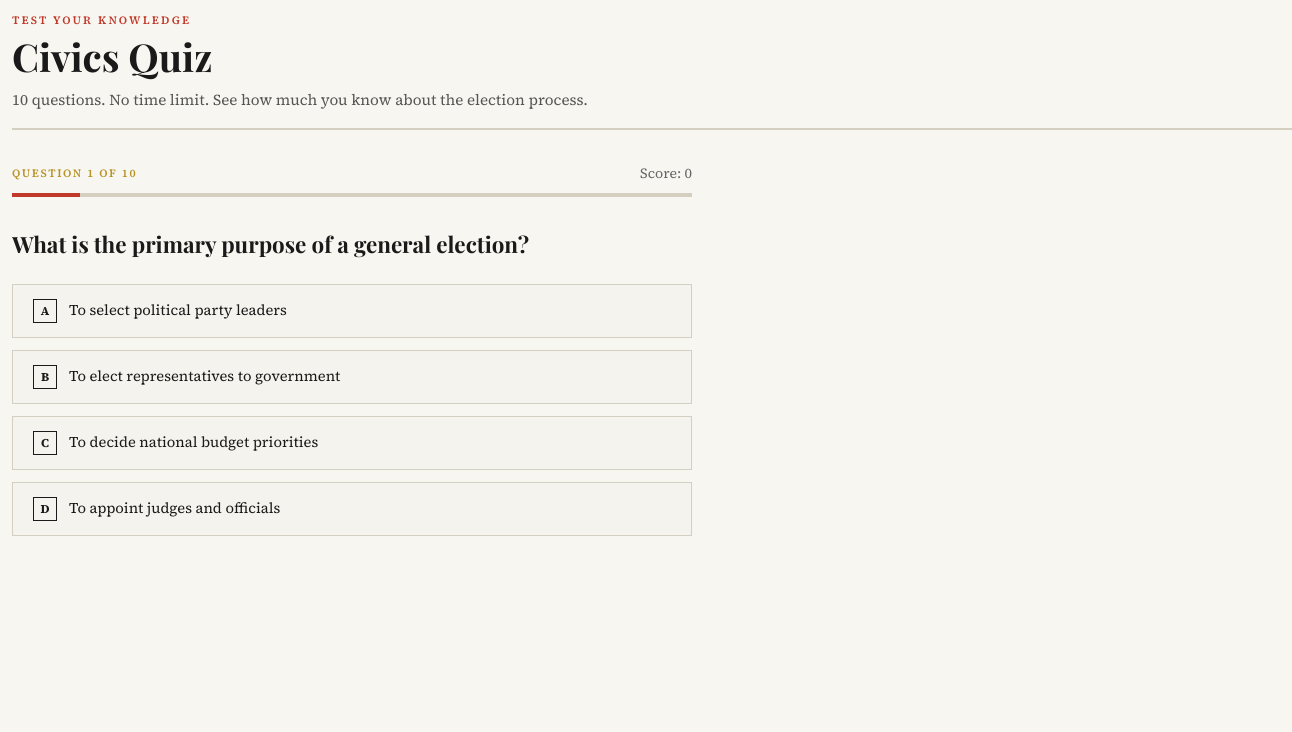
Test case: Quiz Component › restarts the quiz when the restart button is clicked
This screenshot has width=1292, height=732.
Click the button "A To select political party leaders" at (178, 310), box left=12, top=284, right=692, bottom=338
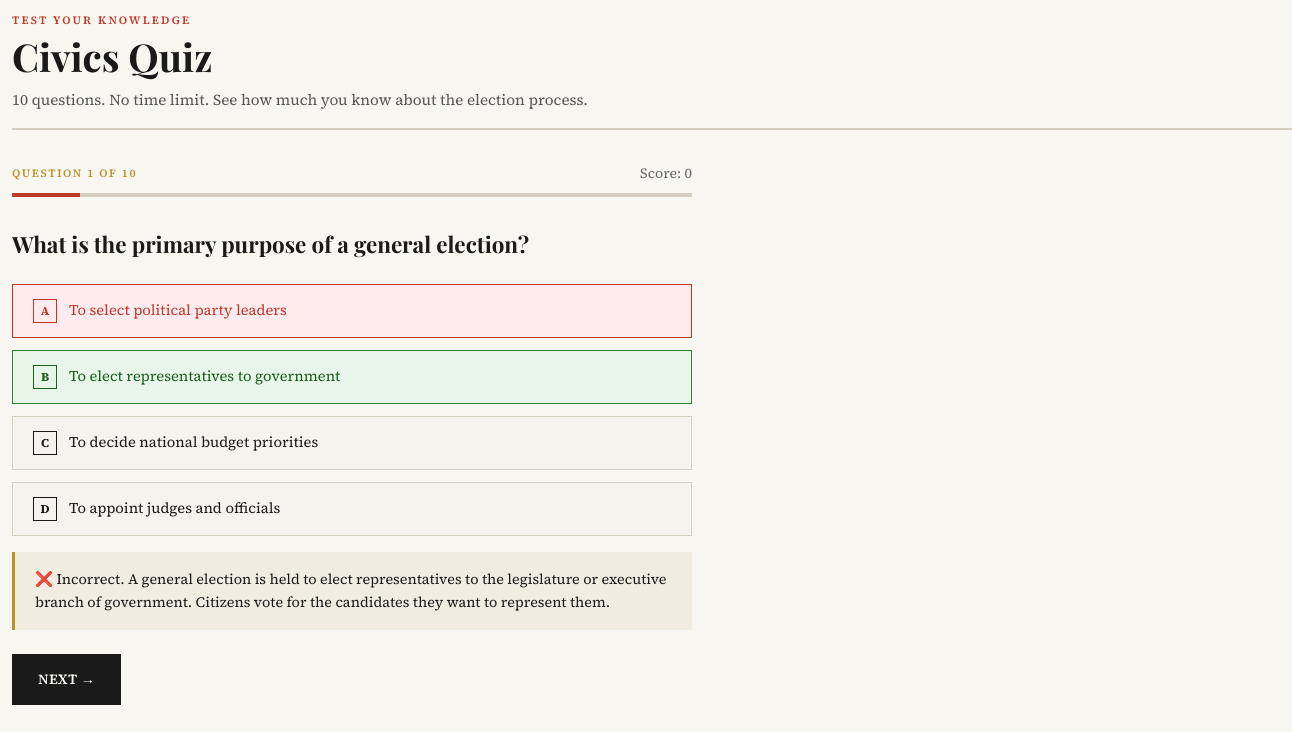
Click the button "Next →" at (67, 680), box left=12, top=654, right=121, bottom=705
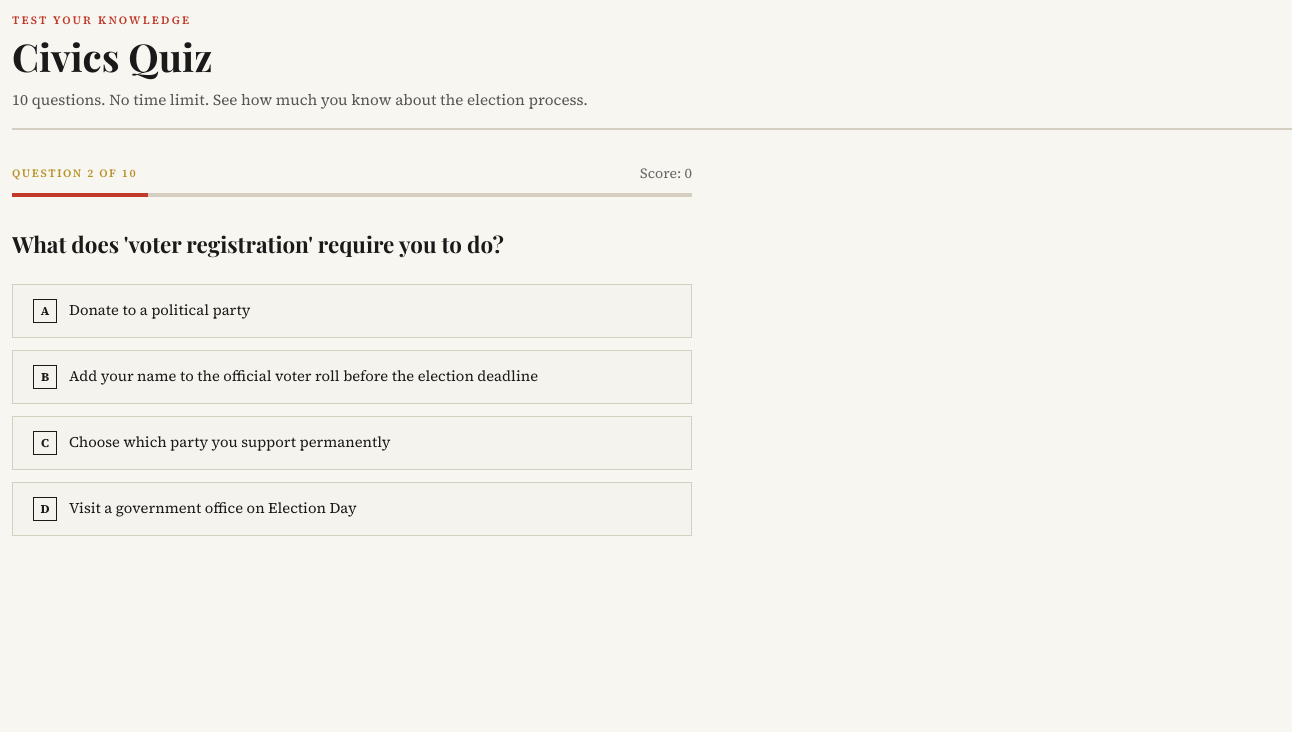
Expected: the text "Question 2 of 10" is shown, left=12, top=165, right=137, bottom=183
